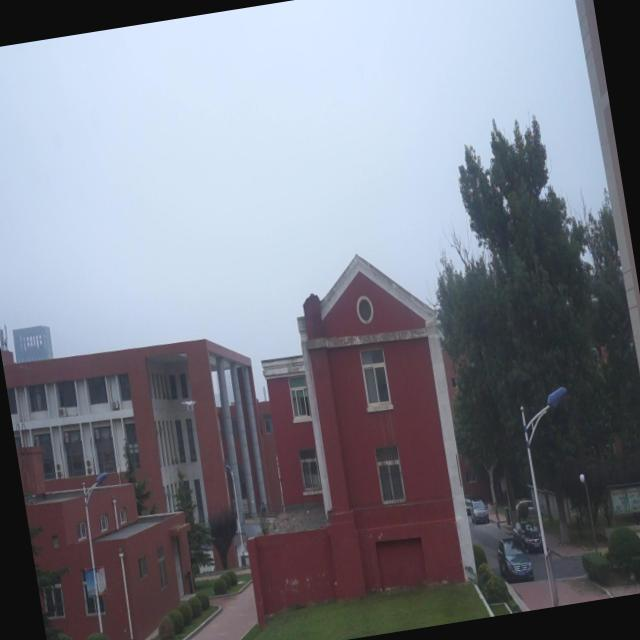drone: (178, 394, 200, 416)
